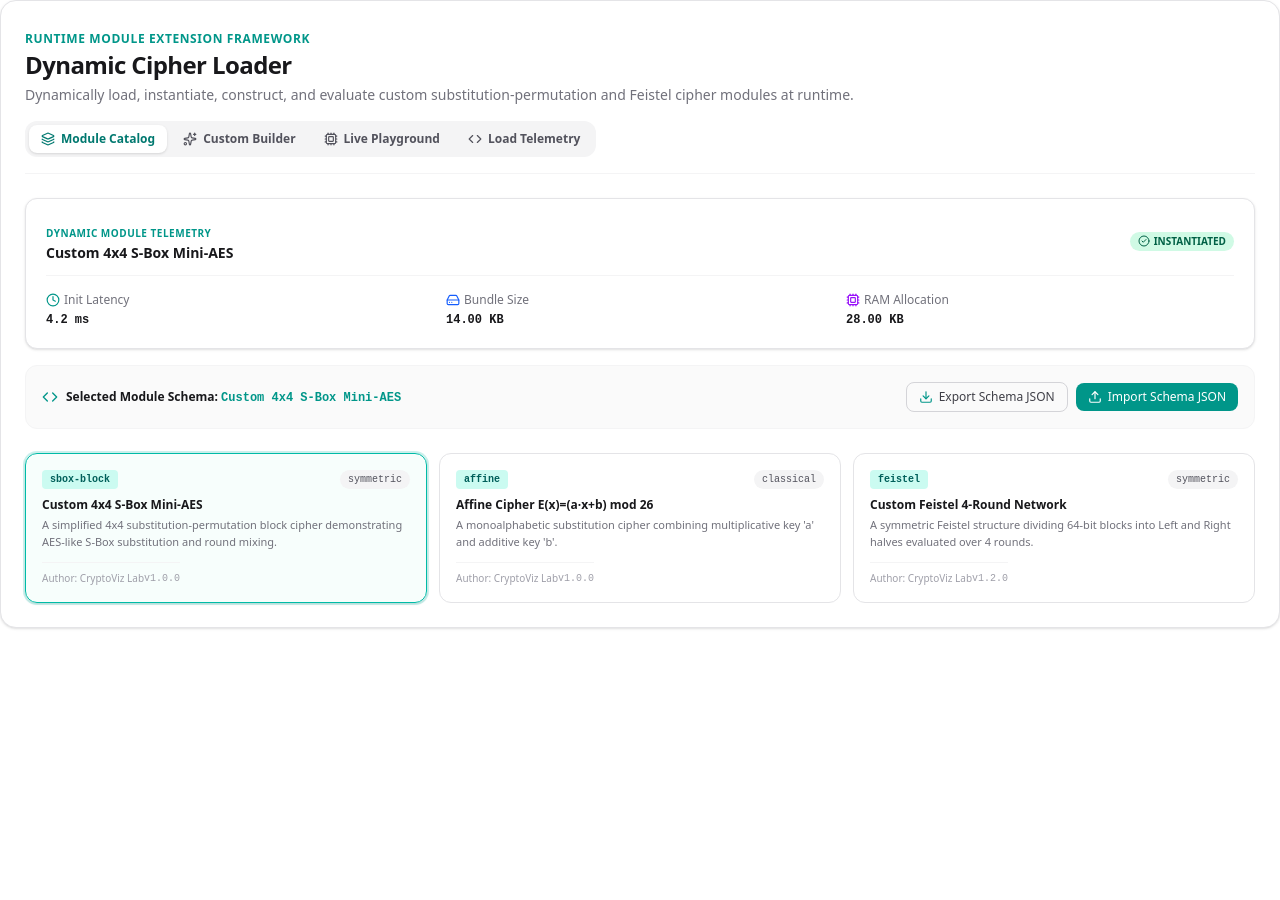
DynamicCipherLoader › switches tabs between Module Catalog, Custom Builder, Live Playground, and Load Telemetry
The image size is (1280, 900).
// Click Custom Builder Tab
Click the button "Custom Builder" at x=239, y=139, box x1=171 y1=125 x2=308 y2=153
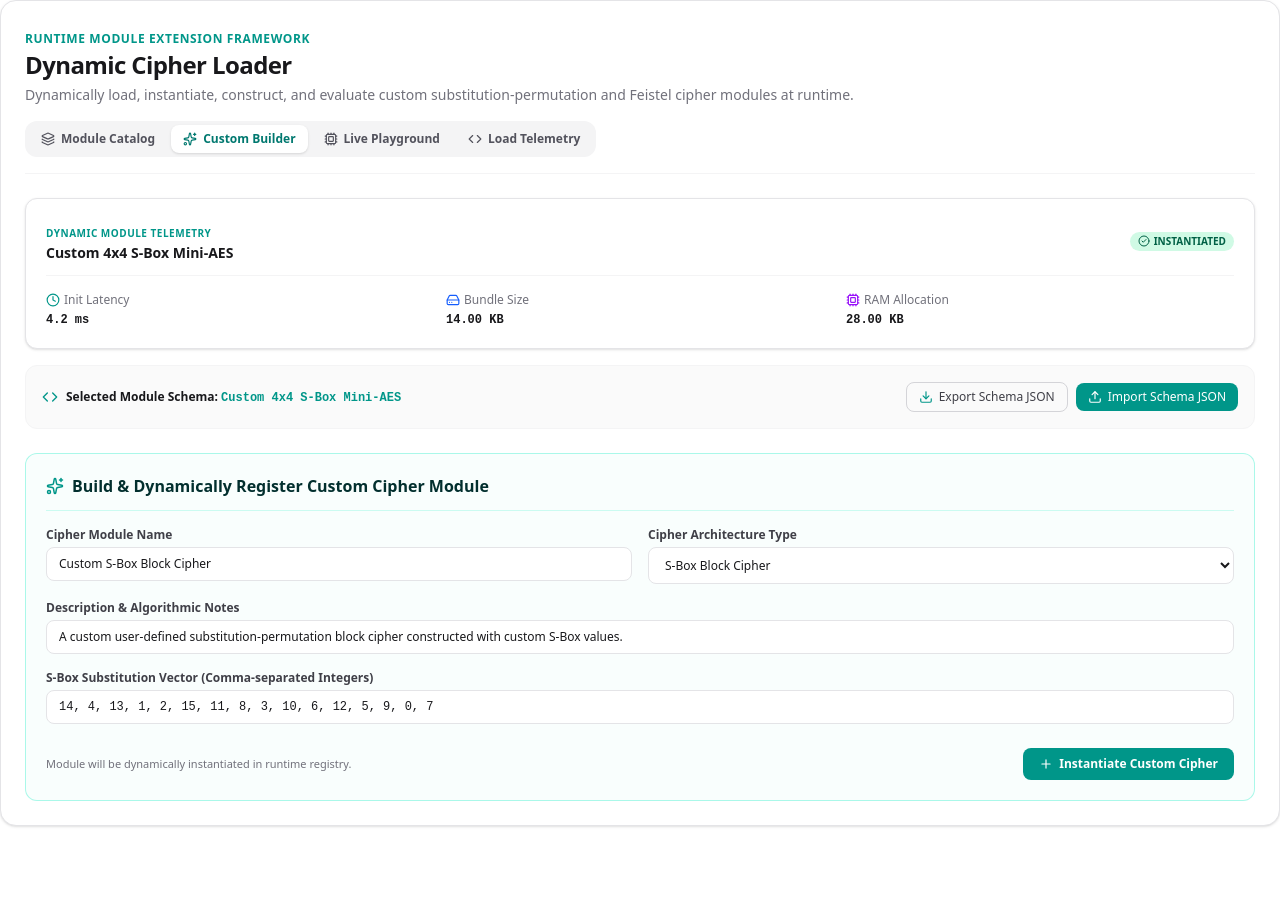
Result: the heading "Build & Dynamically Register Custom Cipher Module" is shown at x1=72 y1=474 x2=489 y2=498
// Click Live Playground Tab
Click the button "Live Playground" at x=382, y=139, box x1=312 y1=125 x2=452 y2=153
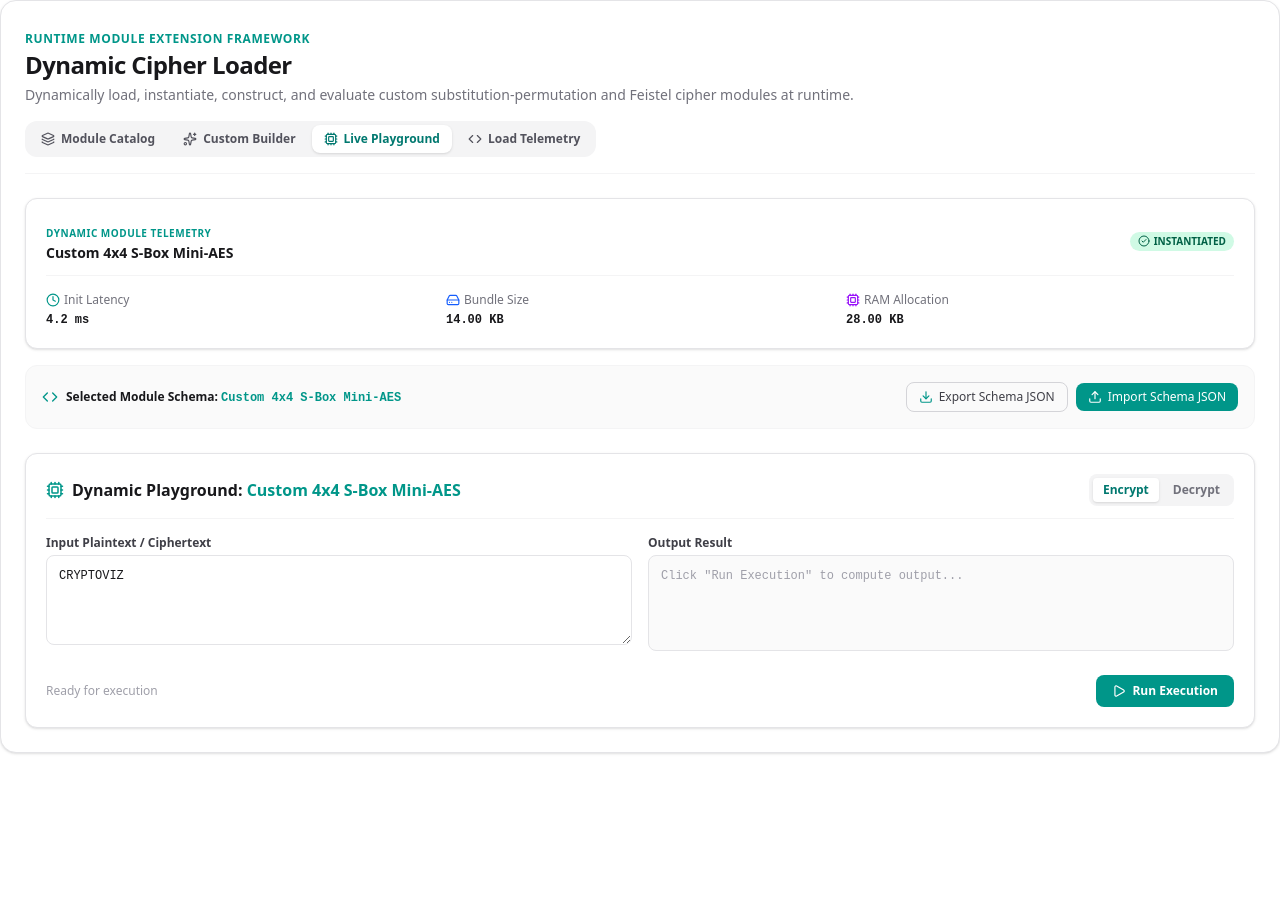
Result: the heading "Dynamic Playground: Custom 4x4 S-Box Mini-AES" is shown at x1=72 y1=478 x2=461 y2=502
Result: the button "Run Execution" is shown at x1=1096 y1=675 x2=1234 y2=707
// Click Load Telemetry Tab
Click the button "Load Telemetry" at x=524, y=139, box x1=456 y1=125 x2=592 y2=153
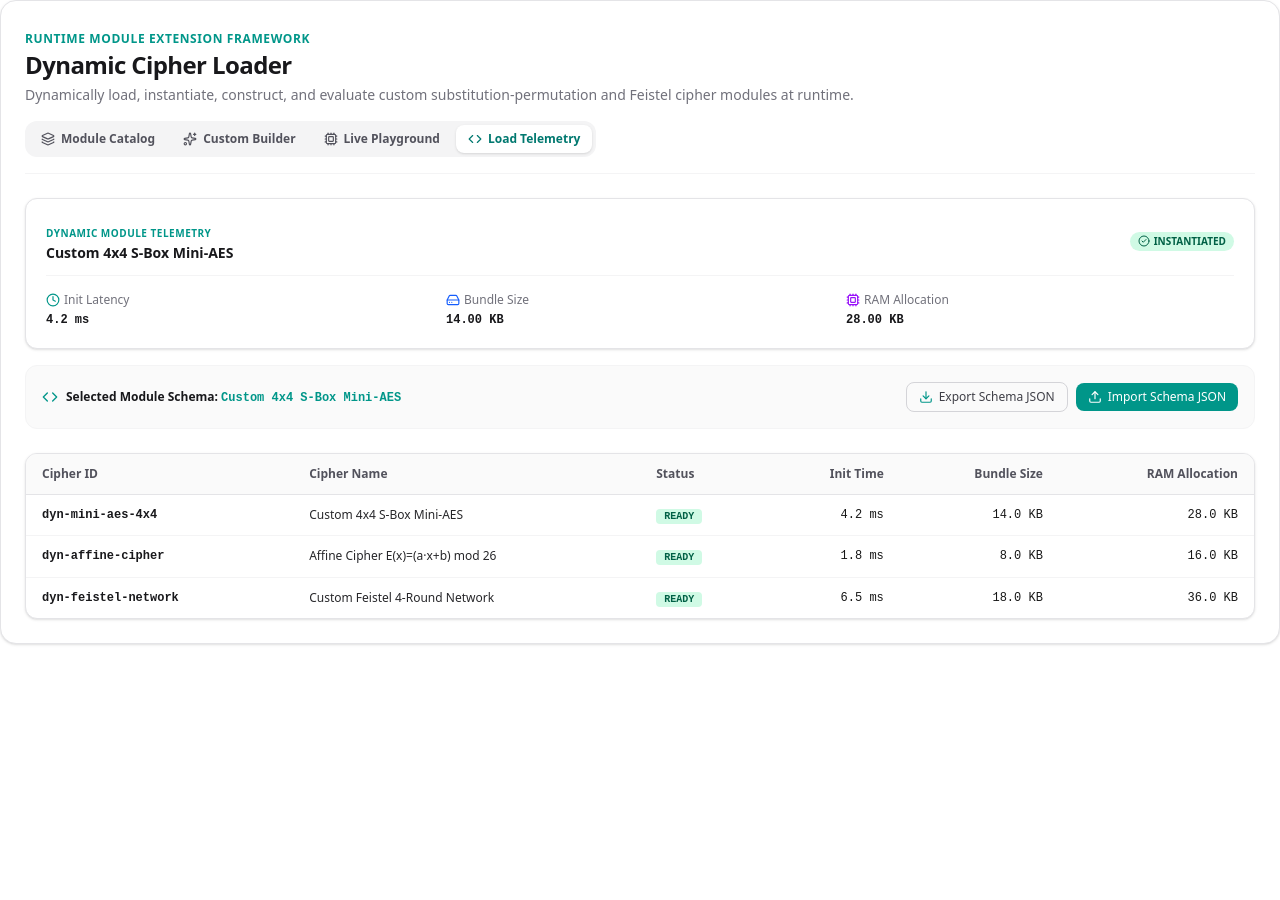
Result: the column heading "Cipher ID" is shown at x1=26 y1=454 x2=293 y2=494
